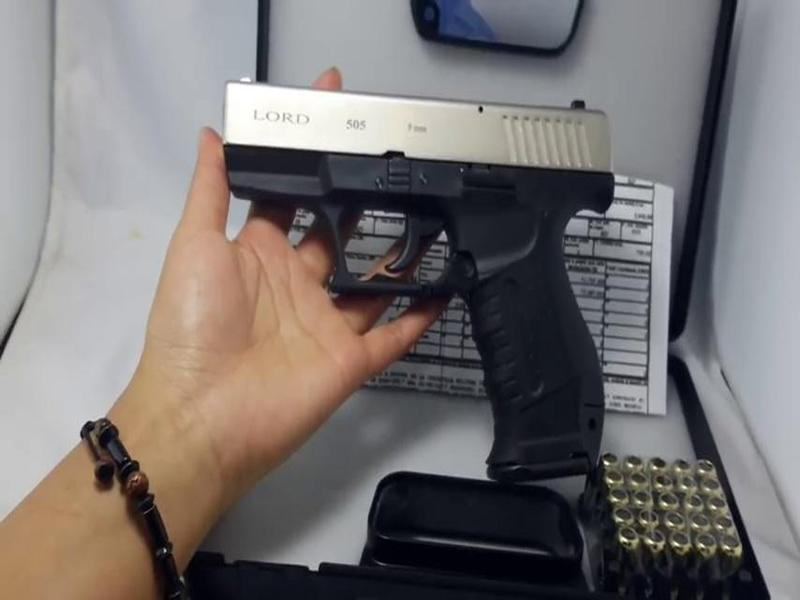Pistola: (202, 59, 614, 489)
